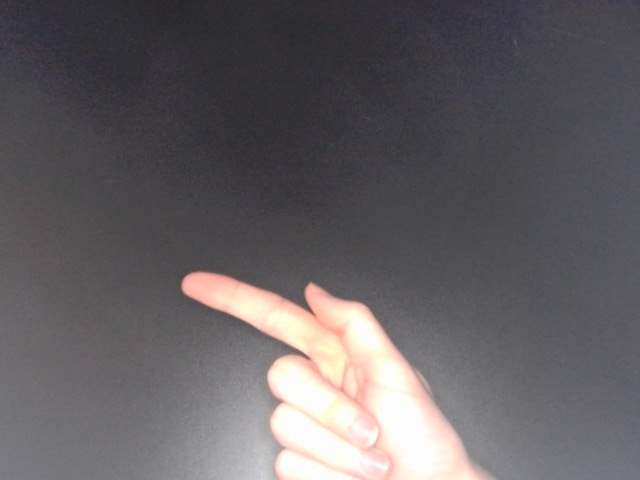g: (177, 266, 488, 480)
